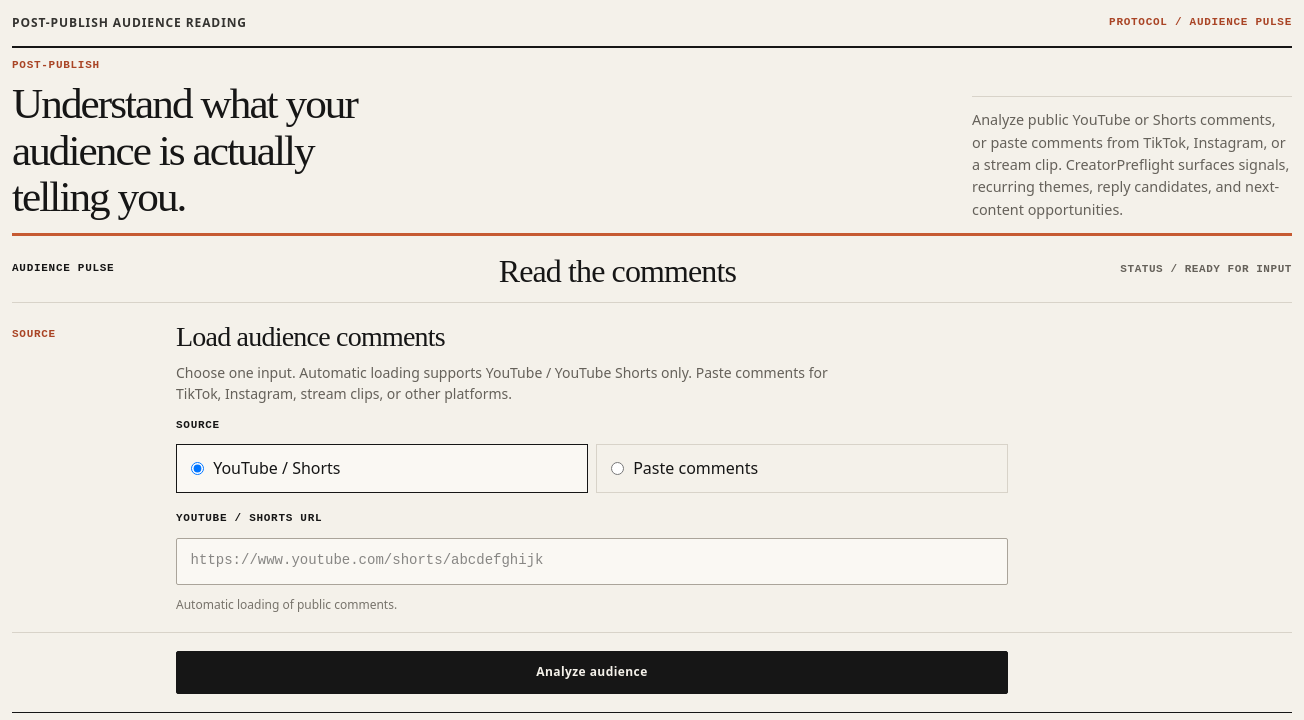
AudiencePulseWorkspace source modes › treats paste comments as an alternative mode with a platform selector
Click the radio button labelled "Paste comments" at (617, 468), box [611,462,624,475]
(page scrolled)
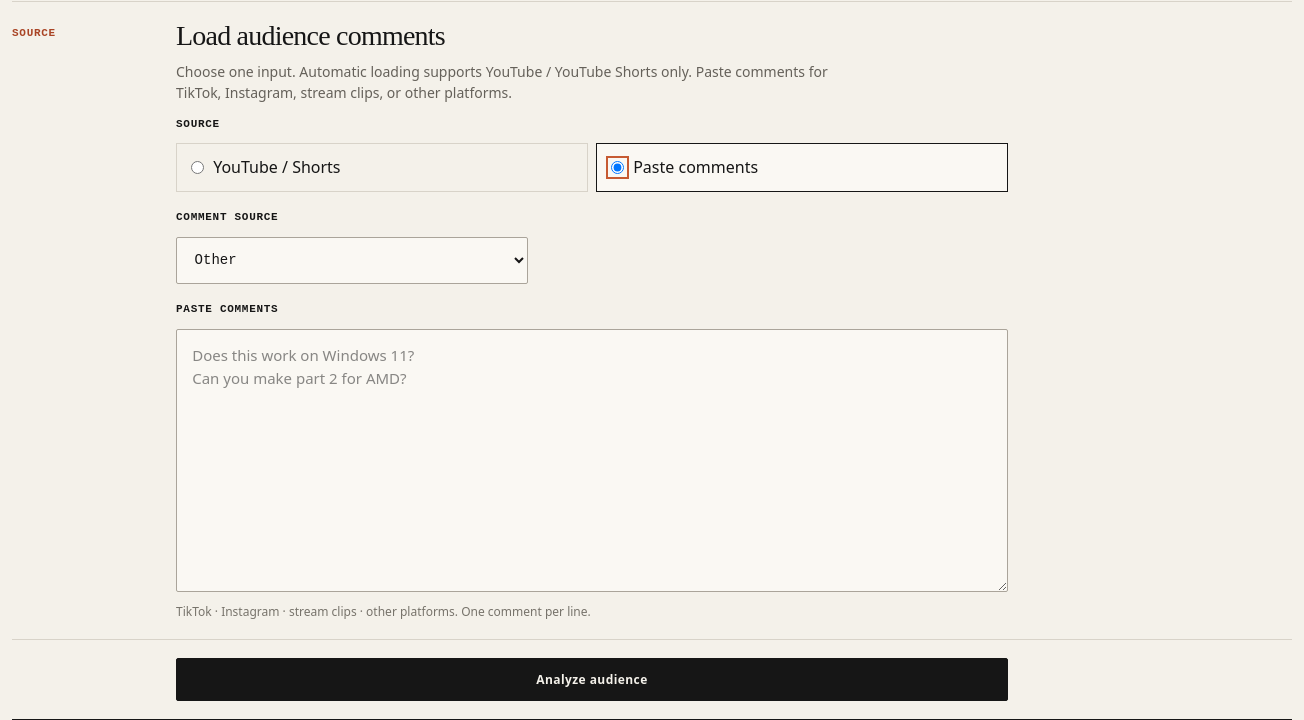
Expected: the radio button labelled "Paste comments" is checked, [611,161,624,174]
Expected: the label labelled "YouTube / Shorts URL" is gone
Expected: the text box labelled "Paste comments" is shown, [176,329,1008,592]
